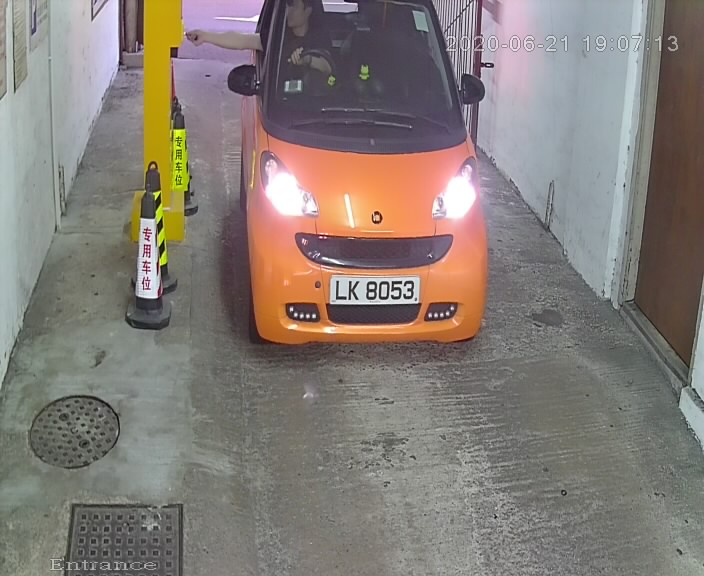privatecar: (211, 2, 516, 372)
